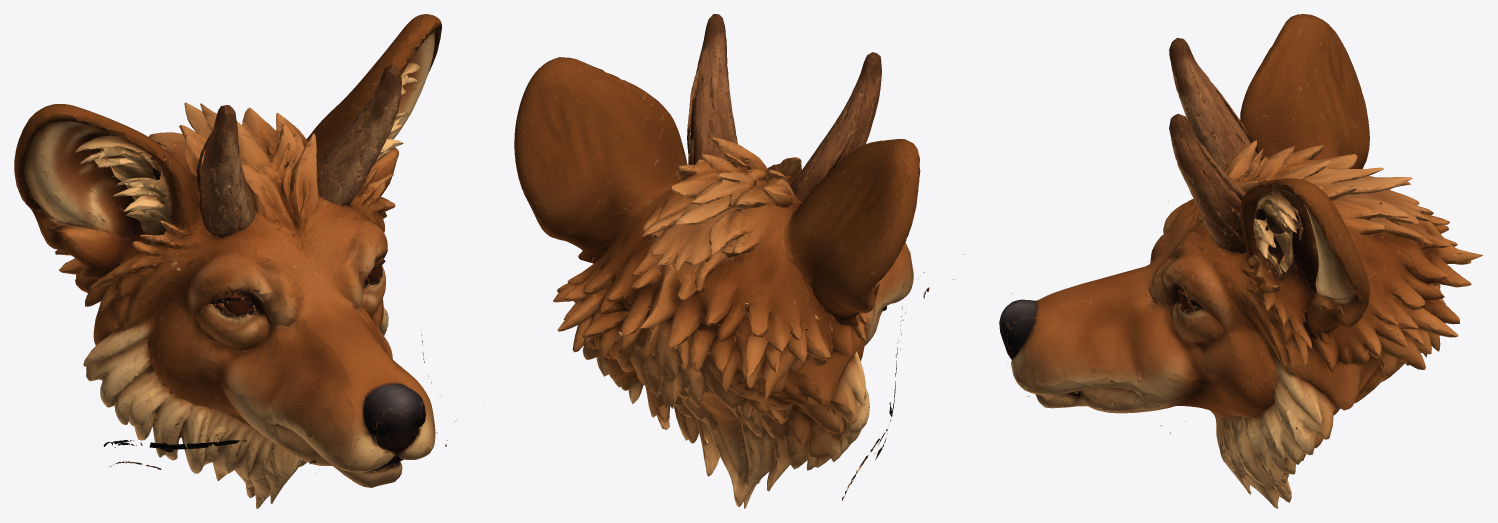
The model's file is horned-skull-identity-hybrid-trellis-81421.glb.
3 renders of one model, left to right at view 1: azimuth 30°, elevation 25°; view 2: azimuth 150°, elevation 25°; view 3: azimuth 270°, elevation 25°, orthographic. The views are drawn at different scales.
Visible parts, largest first — view 1: world; view 2: world; view 3: world.
Part boxes in pixels (x1=…): world: x1=14, y1=14, x2=485, y2=508; world: x1=514, y1=14, x2=963, y2=508; world: x1=999, y1=14, x2=1482, y2=508.
Size of the model in its own units: 0.9311 by 0.9874 by 1.
1 material, 1 textured.
